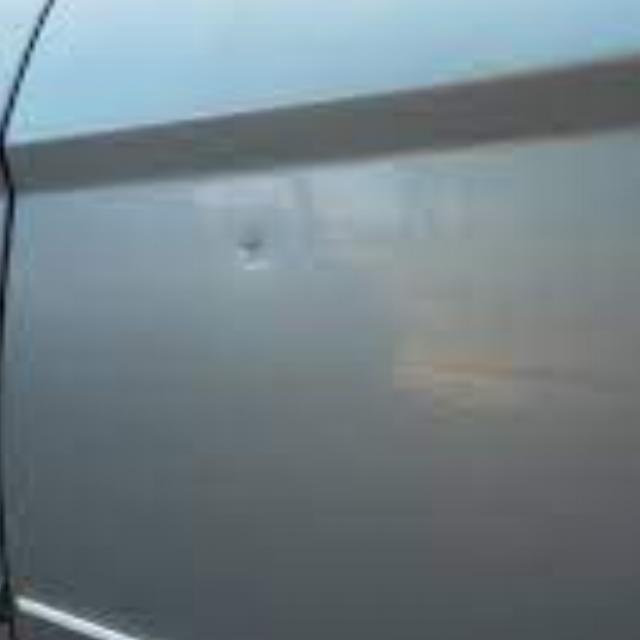dents: (202, 198, 304, 300)
